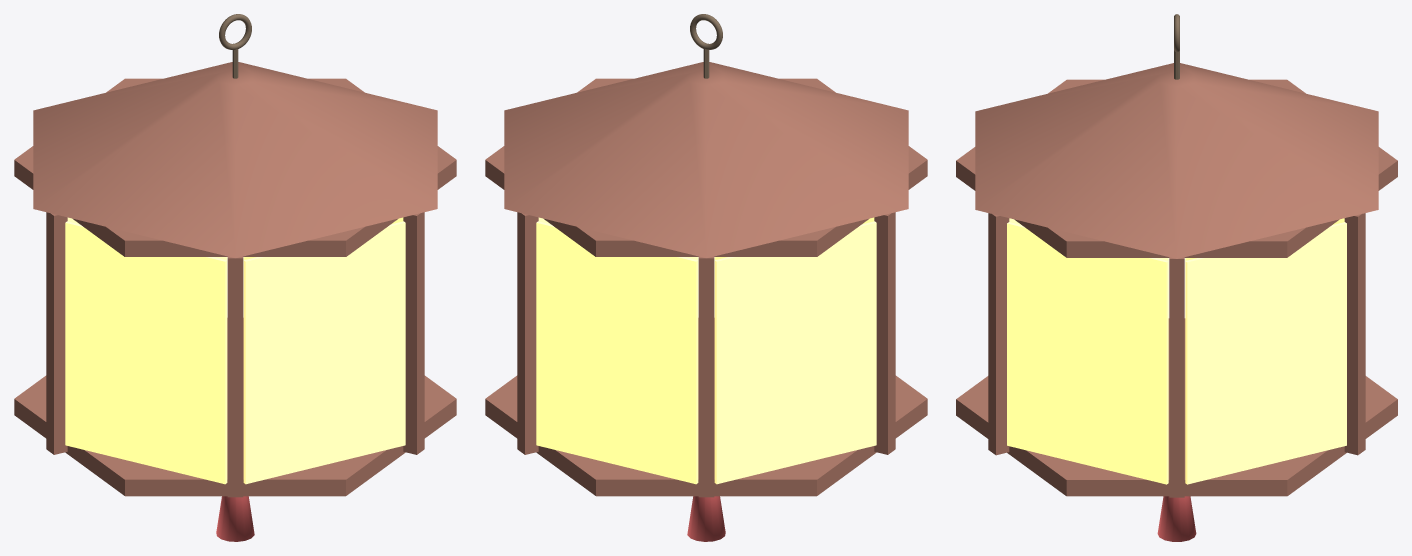
Rendered from den_long_luc_giac.glb.
3 views of the same model, side by side, from view 1: azimuth 30°, elevation 25°; view 2: azimuth 150°, elevation 25°; view 3: azimuth 270°, elevation 25° (orthographic).
Parts seen in each view (by area): view 1: den_long_luc_giac.001, panel_3, panel_4, rim_0.149, rim_0.411, post_3, post_5, post_4, tassel, hook; view 2: den_long_luc_giac.001, panel_1, panel_2, rim_0.149, rim_0.411, post_1, post_3, post_2, tassel, hook; view 3: den_long_luc_giac.001, panel_0, panel_5, rim_0.149, rim_0.411, post_1, post_5, post_0, tassel.
Part boxes in pixels (bbox=[...]): den_long_luc_giac.001: bbox=[33, 62, 437, 258]; panel_3: bbox=[65, 221, 227, 484]; panel_4: bbox=[243, 221, 405, 484]; rim_0.149: bbox=[14, 318, 456, 496]; rim_0.411: bbox=[14, 78, 456, 256]; post_3: bbox=[46, 212, 67, 454]; post_5: bbox=[403, 212, 424, 454]; post_4: bbox=[227, 256, 243, 497]; tassel: bbox=[216, 496, 254, 541]; hook: bbox=[219, 14, 251, 49]; den_long_luc_giac.001: bbox=[504, 62, 908, 258]; panel_1: bbox=[536, 221, 698, 484]; panel_2: bbox=[714, 221, 876, 484]; rim_0.149: bbox=[485, 318, 927, 496]; rim_0.411: bbox=[485, 78, 927, 256]; post_1: bbox=[517, 212, 538, 454]; post_3: bbox=[874, 212, 895, 454]; post_2: bbox=[698, 256, 714, 497]; tassel: bbox=[687, 496, 725, 541]; hook: bbox=[690, 14, 722, 49]; den_long_luc_giac.001: bbox=[975, 63, 1378, 258]; panel_0: bbox=[1185, 222, 1346, 484]; panel_5: bbox=[1007, 222, 1168, 484]; rim_0.149: bbox=[956, 318, 1397, 496]; rim_0.411: bbox=[956, 79, 1397, 257]; post_1: bbox=[1344, 213, 1365, 455]; post_5: bbox=[988, 213, 1009, 455]; post_0: bbox=[1169, 257, 1184, 497]; tassel: bbox=[1157, 496, 1196, 541].
Bounding box in the file's own units: 0.44 × 0.5401 × 0.4171.
